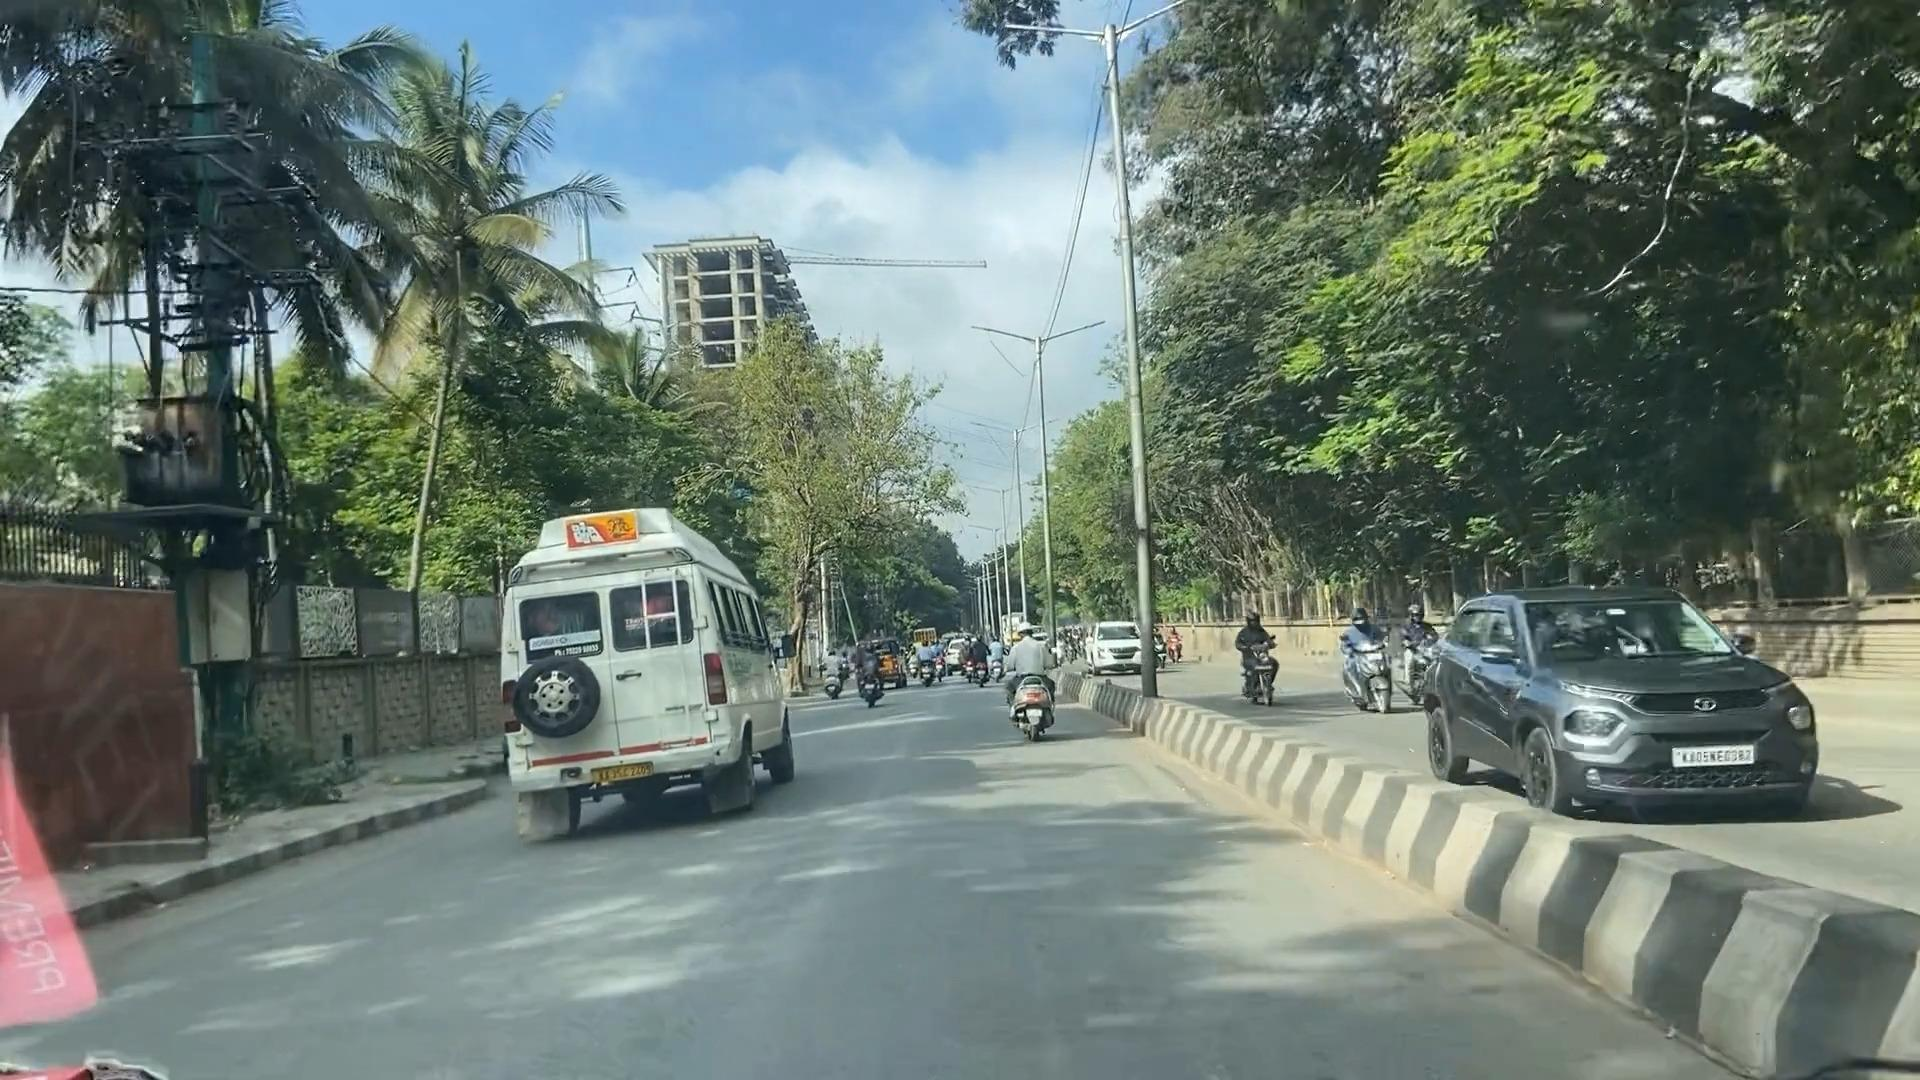HMV: (491, 516, 802, 823)
